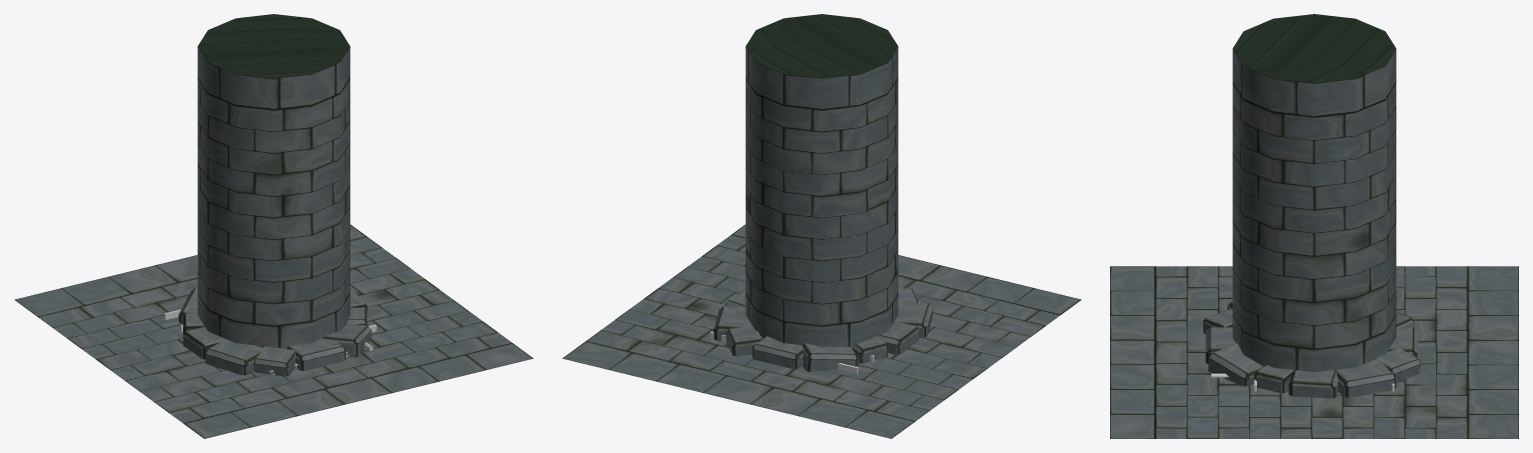
Rendered from m1_Top_hole.FBX.
3 renders of one model, left to right at view 1: azimuth 30°, elevation 25°; view 2: azimuth 150°, elevation 25°; view 3: azimuth 270°, elevation 25°, orthographic. The views are drawn at different scales.
Visible parts, largest first — view 1: Cylinder023, Plane006, bottomLine001; view 2: Cylinder023, Plane006, bottomLine001; view 3: Cylinder023, Plane006, bottomLine001.
Boxes of the visible parts, x1,y1,x2,y2 form: Cylinder023: [197, 14, 350, 348]; Plane006: [14, 224, 533, 438]; bottomLine001: [178, 288, 371, 376]; Cylinder023: [745, 14, 898, 347]; Plane006: [562, 224, 1081, 438]; bottomLine001: [713, 288, 932, 372]; Cylinder023: [1232, 14, 1396, 372]; Plane006: [1110, 266, 1518, 438]; bottomLine001: [1203, 302, 1420, 398].
Size of the model in its own units: 25.4 by 21.97 by 25.4.
